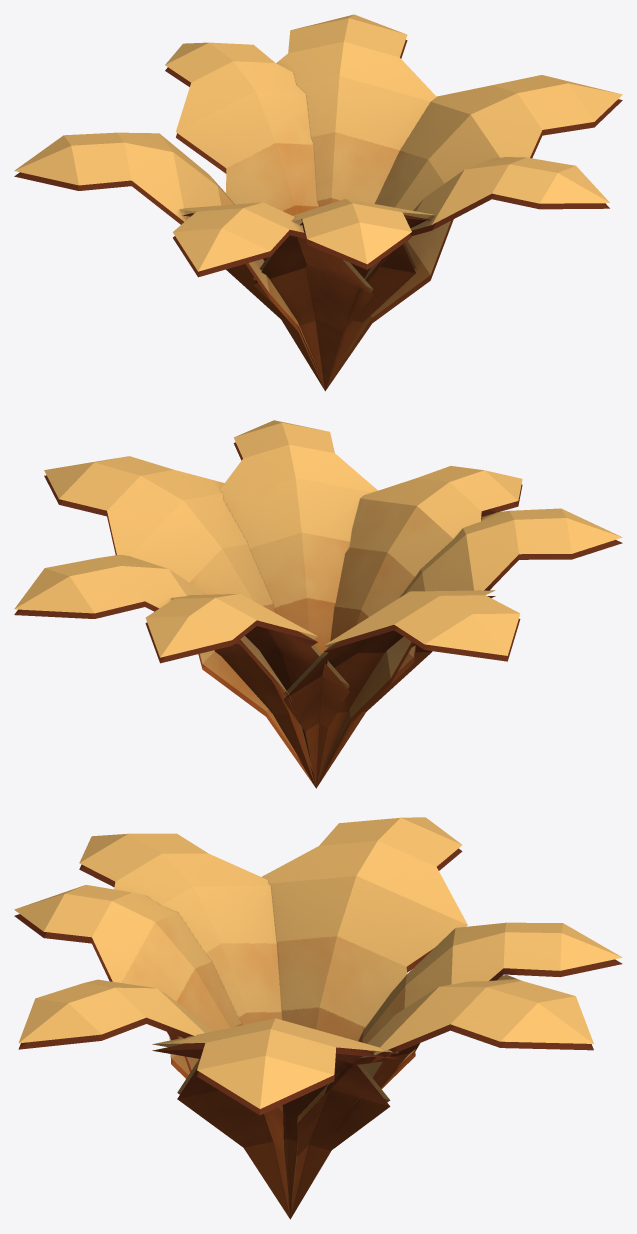
File: Env_LeafPlant_2.glb
3 renders of one model, top to bottom at view 1: azimuth 30°, elevation 25°; view 2: azimuth 150°, elevation 25°; view 3: azimuth 270°, elevation 25°, orthographic. The views are drawn at different scales.
Parts seen in each view (by area): view 1: Env_LeafPlant_2.001; view 2: Env_LeafPlant_2.001; view 3: Env_LeafPlant_2.001.
Part boxes in pixels (left/top/right/bottom): Env_LeafPlant_2.001: left=14, top=14, right=622, bottom=391; Env_LeafPlant_2.001: left=14, top=420, right=622, bottom=788; Env_LeafPlant_2.001: left=14, top=817, right=622, bottom=1219.
Bounding box in the file's own units: 2.5 × 1.16 × 2.21.
1 material, 1 textured.
